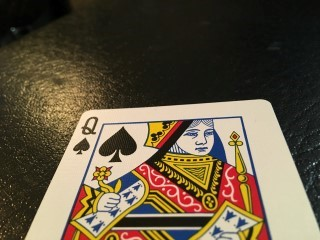QueenOfSpades: (24, 99, 319, 240)
